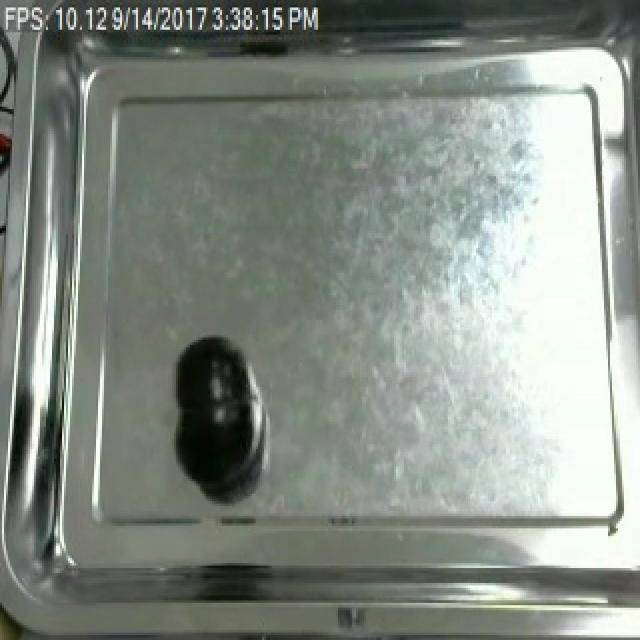Fruit: (170, 332, 258, 492)
